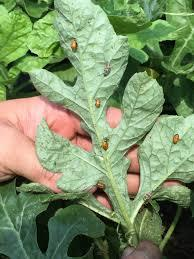insect: (93, 181, 109, 194), (68, 36, 79, 54), (100, 136, 110, 154), (170, 133, 183, 146), (92, 97, 103, 112)
